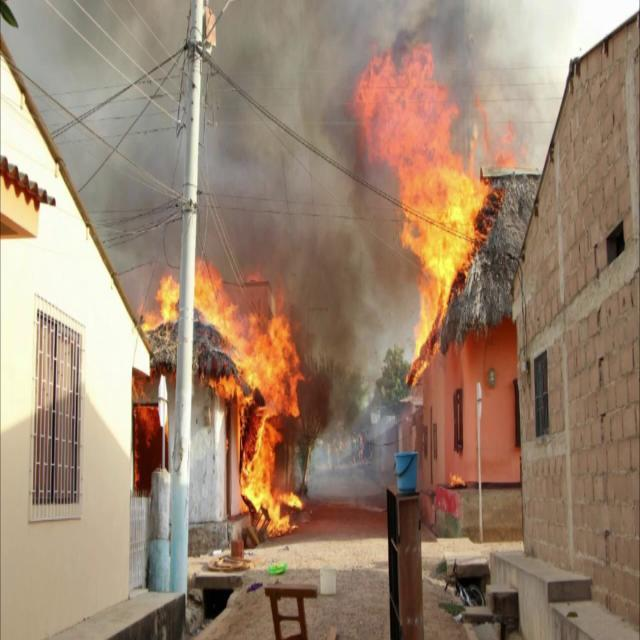Fire: (357, 28, 497, 360), (198, 252, 308, 534), (144, 268, 190, 332)
Smoke: (91, 1, 401, 286)
